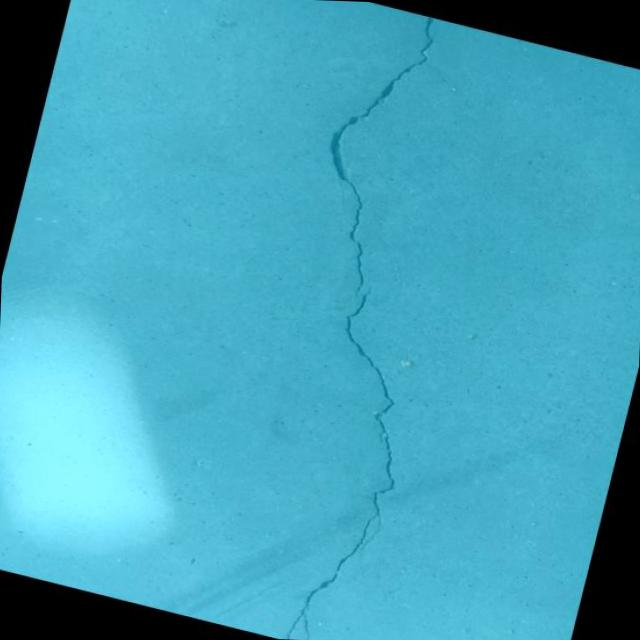crack: (209, 0, 508, 640)
